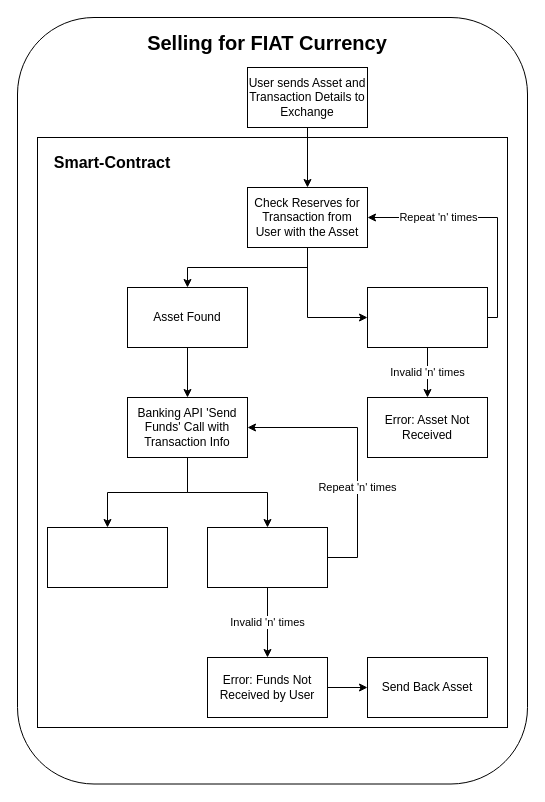
Some shapes in this 545 by 802 pixel diagram are drawn without their labels. Each missing label, with the centre of its shape:
"Asset not Found" goes at (427,317).
"Transaction is invalid" goes at (267,557).
"Transaction is Valid" goes at (107,557).
